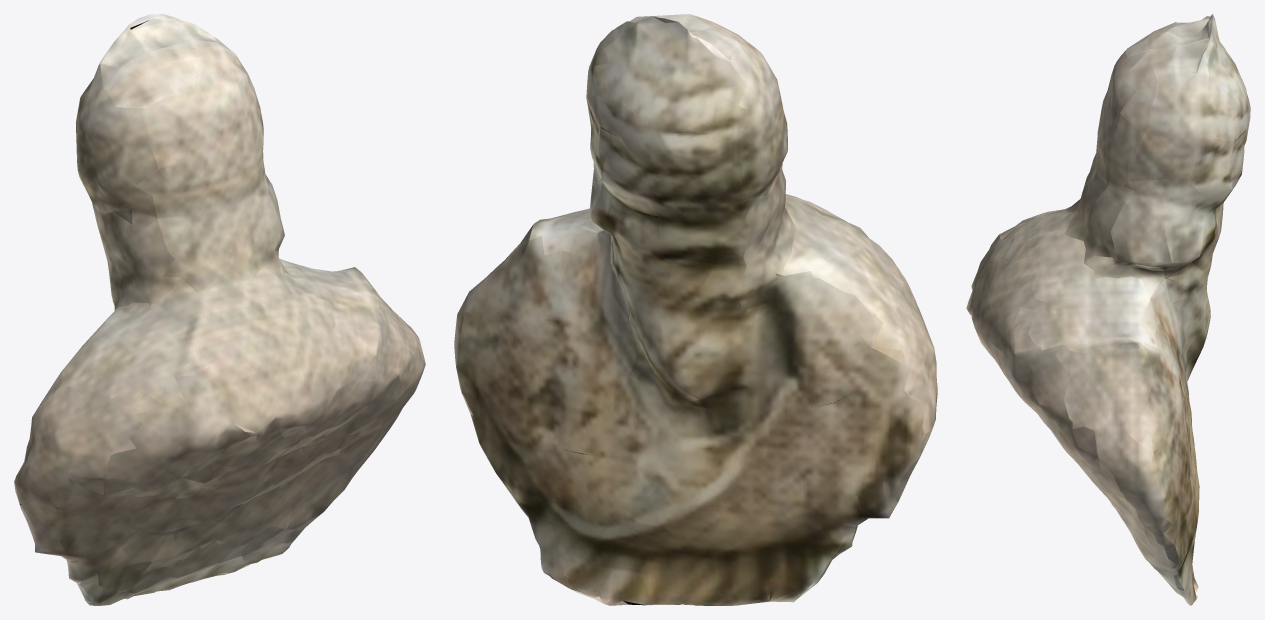
The picture shows the model from 3 angles, left to right: view 1: azimuth 30°, elevation 25°; view 2: azimuth 150°, elevation 25°; view 3: azimuth 270°, elevation 25°; orthographic projection. The views are drawn at different scales.
Parts seen in each view (by area): view 1: world; view 2: world; view 3: world.
Boxes of the visible parts, box(x1,y1,x2,y2) form: world: box(14, 14, 425, 605); world: box(454, 14, 937, 605); world: box(966, 14, 1250, 605).
Bounding box in the file's own units: 0.3791 × 0.4896 × 0.2332.
1 material, 1 textured.
